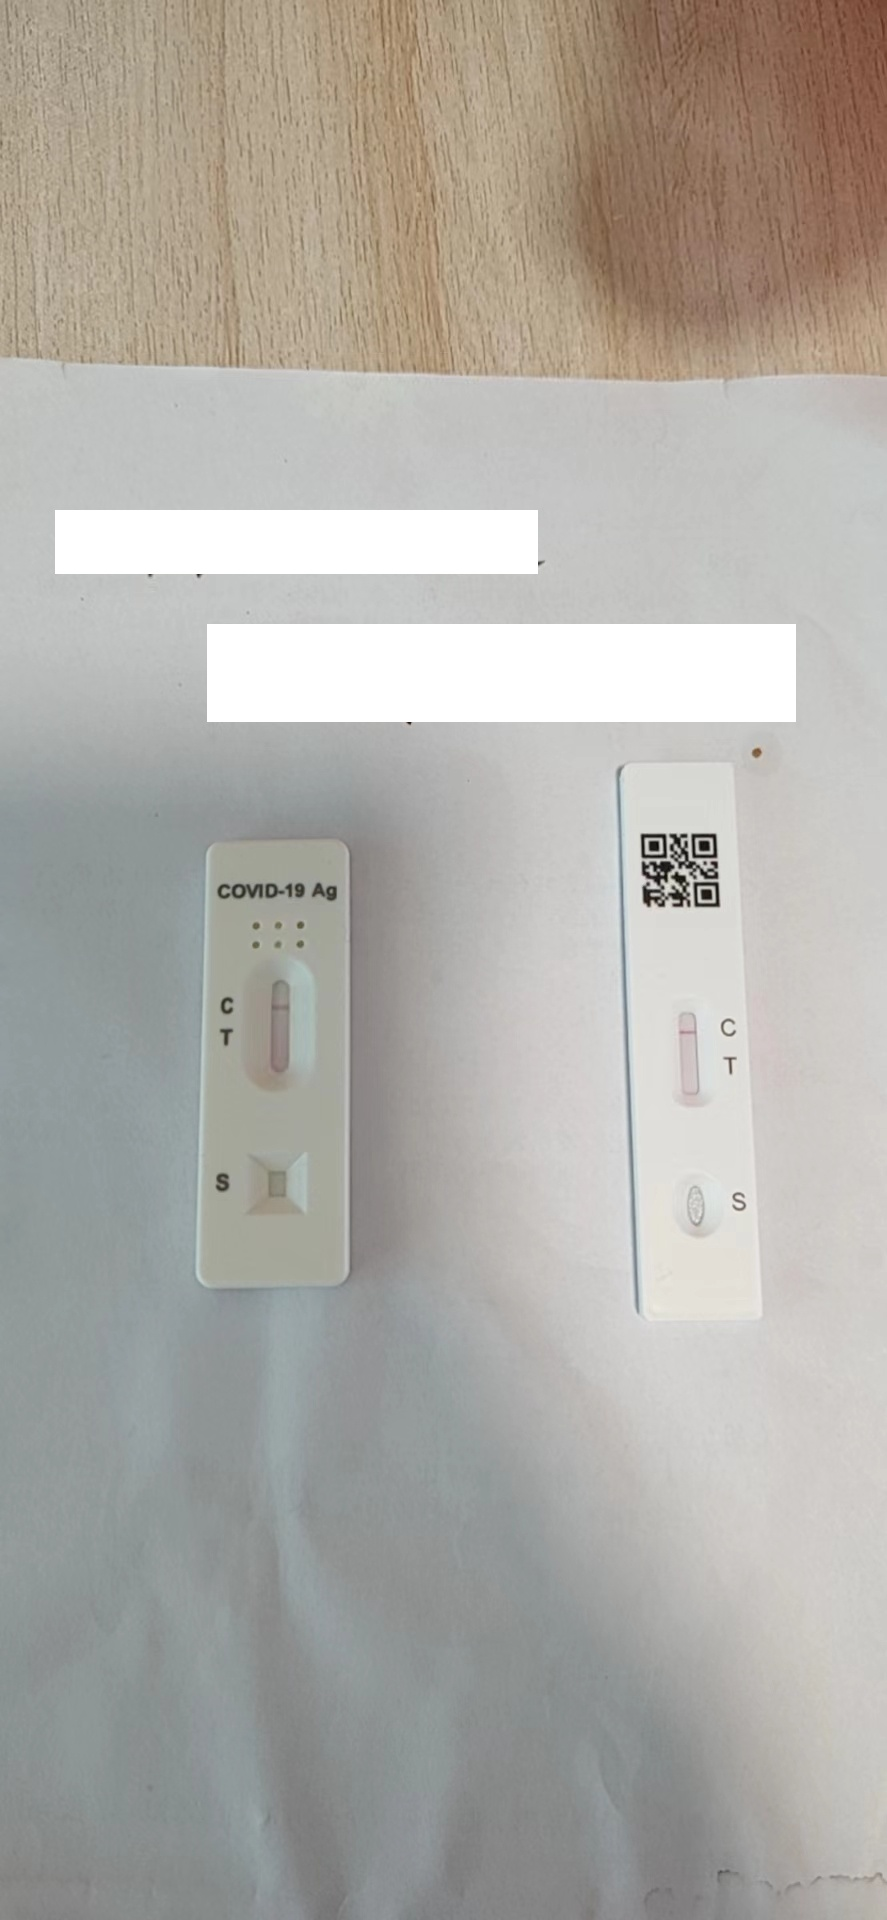negative: (245, 964, 319, 1095), (666, 1000, 714, 1109)
